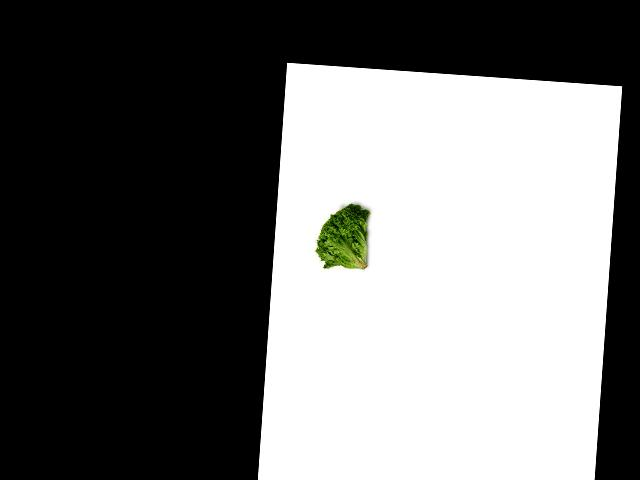lettuce: (311, 197, 377, 274)
